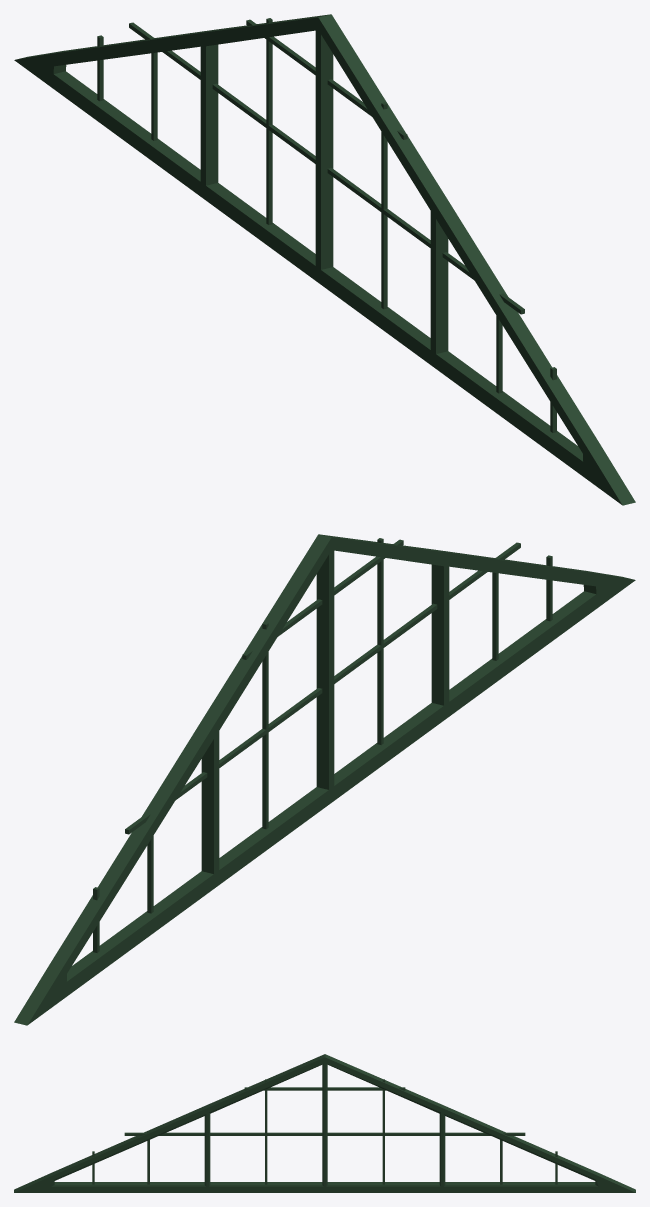
Rendered from gh_triangle_rods.gltf.
3 views of the same model, one above another, from view 1: azimuth 30°, elevation 25°; view 2: azimuth 150°, elevation 25°; view 3: azimuth 270°, elevation 25° (orthographic). The views are drawn at different scales.
Parts seen in each view (by area): view 1: greenhouse triangle glass; view 2: greenhouse triangle glass; view 3: greenhouse triangle glass.
Boxes of the visible parts, x1,y1,x2,y2 form: greenhouse triangle glass: [14, 14, 635, 505]; greenhouse triangle glass: [14, 534, 635, 1025]; greenhouse triangle glass: [14, 1054, 635, 1192].
Bounding box in the file's own units: 0.0648 × 1.24 × 5.17.
